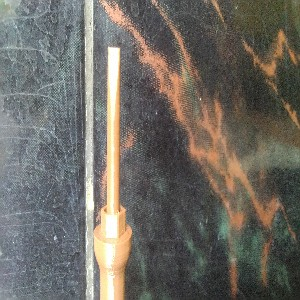obeng: (93, 47, 131, 300)
